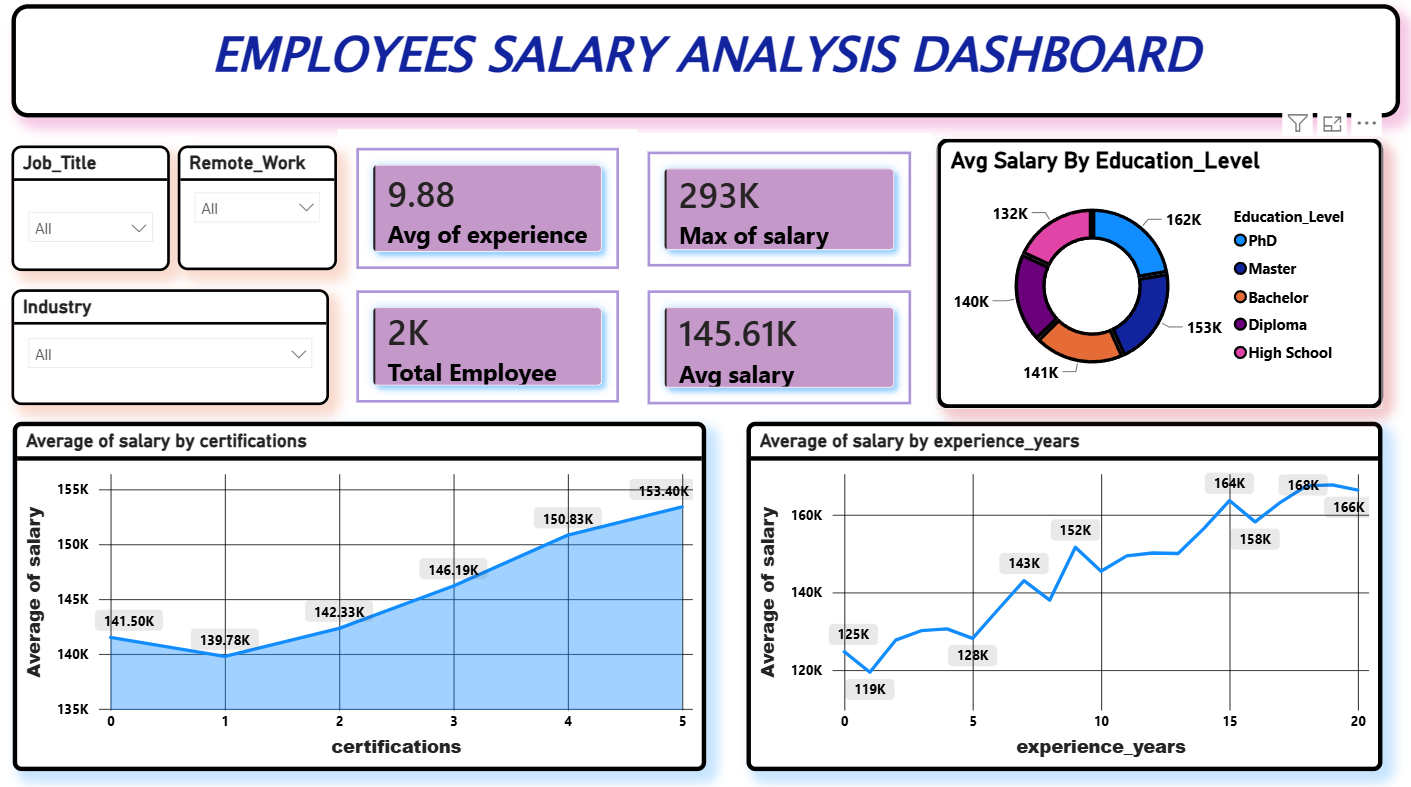

The page's visual inventory and layout, read from the dashboard file:
{"tool":"powerbi","page":{"name":"Page 1","canvas":[1280,720],"ordinal":0},"visuals":[{"type":"textbox","box":[11.6,10.5,1255.8,102.3],"z":0},{"type":"cardVisual","fields":{"Data":["Max(job_salary_prediction_dataset.salary)"]},"box":[570,126.2,272.5,138.8],"z":1000},{"type":"cardVisual","fields":{"Data":["Avg(job_salary_prediction_dataset.salary)"]},"box":[570,252.5,272.5,137.5],"z":2000},{"type":"cardVisual","fields":{"Data":["job_salary_prediction_dataset.Total Emplloyee"]},"box":[306.2,252.5,271.2,135],"z":3000},{"type":"cardVisual","fields":{"Data":["Avg(job_salary_prediction_dataset.experience_years)"]},"box":[306.2,123.8,271.2,143.8],"z":4000},{"type":"stackedAreaChart","fields":{"Y":["Avg(job_salary_prediction_dataset.salary)"],"Category":["job_salary_prediction_dataset.certifications"]},"box":[12.5,387.5,627.5,316.2],"z":5000},{"type":"lineChart","fields":{"Y":["Avg(job_salary_prediction_dataset.salary)"],"Category":["job_salary_prediction_dataset.experience_years"]},"box":[676.2,387.5,575,316.2],"z":6000},{"type":"slicer","title":"Job_Title","fields":{"Values":["job_salary_prediction_dataset.job_title"]},"box":[11.6,138.4,143,114],"z":7000},{"type":"slicer","title":"Industry","fields":{"Values":["job_salary_prediction_dataset.industry"]},"box":[11.2,267.5,287.5,105],"z":8000},{"type":"donutChart","title":"Avg Salary By Education_Level","fields":{"Y":["Avg(job_salary_prediction_dataset.salary)"],"Category":["job_salary_prediction_dataset.education_level"]},"box":[847.5,131.2,403.8,245],"z":9000},{"type":"slicer","title":"Remote_Work","fields":{"Values":["job_salary_prediction_dataset.remote_work"]},"box":[161.6,138.4,144.2,112.8],"z":10000}]}

Visuals, with their boxes in screenshot pixels (x1, y1, x2, y2), scaled from the page's 1280x720 canvas onto the 1411x787 screenshot:
textbox: x1=13, y1=11, x2=1397, y2=123
cardVisual - Max(job_salary_prediction_dataset.salary): x1=628, y1=138, x2=929, y2=290
cardVisual - Avg(job_salary_prediction_dataset.salary): x1=628, y1=276, x2=929, y2=426
cardVisual - job_salary_prediction_dataset.Total Emplloyee: x1=338, y1=276, x2=636, y2=424
cardVisual - Avg(job_salary_prediction_dataset.experience_years): x1=338, y1=135, x2=636, y2=293
stackedAreaChart - Avg(job_salary_prediction_dataset.salary) x job_salary_prediction_dataset.certifications: x1=14, y1=424, x2=706, y2=769
lineChart - Avg(job_salary_prediction_dataset.salary) x job_salary_prediction_dataset.experience_years: x1=745, y1=424, x2=1379, y2=769
"Job_Title" slicer: x1=13, y1=151, x2=170, y2=276
"Industry" slicer: x1=12, y1=292, x2=329, y2=407
"Avg Salary By Education_Level" donutChart: x1=934, y1=143, x2=1379, y2=411
"Remote_Work" slicer: x1=178, y1=151, x2=337, y2=275
